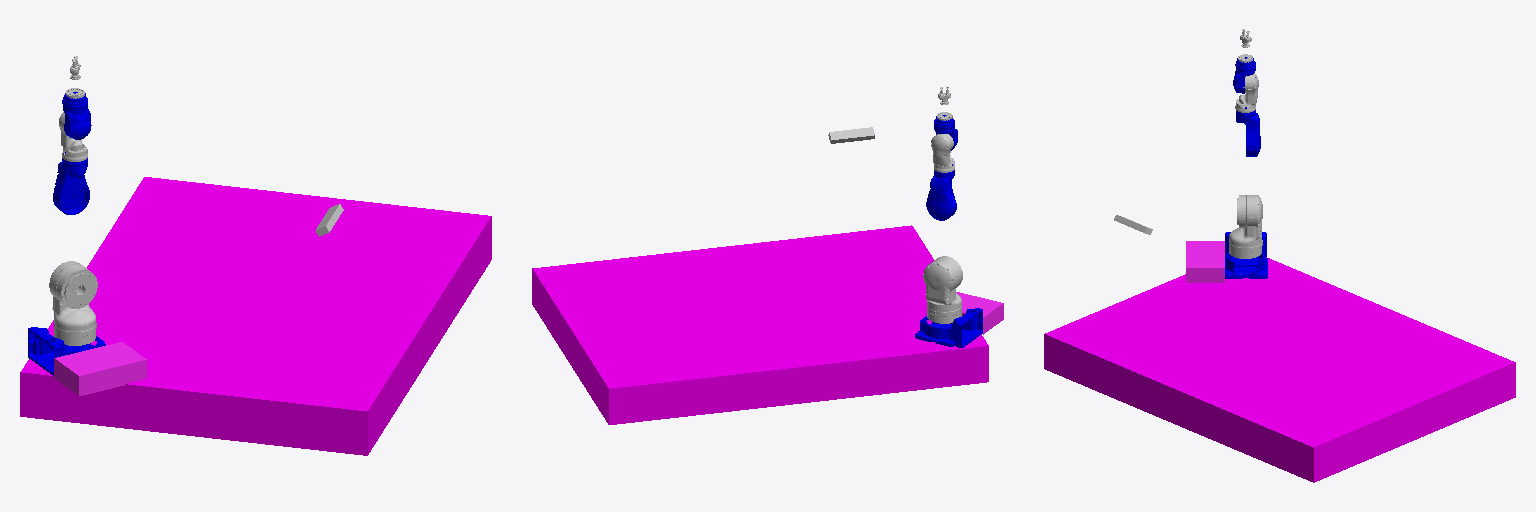
URDF robot description (motoman_vacumm):
<?xml version="1.0" ?>
<!-- =================================================================================== -->
<!-- |    This document was autogenerated by xacro from urdf/mantis.xacro              | -->
<!-- |    EDITING THIS FILE BY HAND IS NOT RECOMMENDED                                 | -->
<!-- =================================================================================== -->
<robot name="motoman_vacumm" xmlns:xacro="http://ros.org/wiki/xacro">
  <!-- instantiating arm and gripper -->
  <link name="base_link">
    <visual>
      <geometry>
        <mesh filename="package://motoman_config/meshes/sia20d/visual/MOTOMAN_BASE.stl"/>
      </geometry>
      <material name="blue">
        <color rgba="0 0 1 1"/>
      </material>
    </visual>
    <collision>
      <geometry>
        <mesh filename="package://motoman_config/meshes/sia20d/collision/MOTOMAN_BASE.stl"/>
      </geometry>
      <material name="yellow">
        <color rgba="0 1 1 1"/>
      </material>
    </collision>
  </link>
  <link name="link_s">
    <visual>
      <origin rpy="0 0 3.1416" xyz="0 0 0"/>
      <geometry>
        <mesh filename="package://motoman_config/meshes/sia20d/visual/MOTOMAN_AXIS_S.stl"/>
      </geometry>
      <material name="silver">
        <color rgba="0.8 0.8 0.8 1"/>
      </material>
    </visual>
    <collision>
      <origin rpy="0 0 3.1416" xyz="0 0 0"/>
      <geometry>
        <mesh filename="package://motoman_config/meshes/sia20d/collision/MOTOMAN_AXIS_S.stl"/>
      </geometry>
      <material name="yellow"/>
    </collision>
  </link>
  <link name="link_l">
    <visual>
      <origin rpy="1.57 3.1416 3.1416" xyz="0 0 0"/>
      <geometry>
        <mesh filename="package://motoman_config/meshes/sia20d/visual/MOTOMAN_AXIS_L.stl"/>
      </geometry>
      <material name="blue"/>
    </visual>
    <collision>
      <origin rpy="1.57 3.1416 3.1416" xyz="0 0 0"/>
      <geometry>
        <mesh filename="package://motoman_config/meshes/sia20d/collision/MOTOMAN_AXIS_L.stl"/>
      </geometry>
      <material name="yellow"/>
    </collision>
  </link>
  <link name="link_e">
    <visual>
      <origin rpy="0 0 0" xyz="0 0 0"/>
      <geometry>
        <mesh filename="package://motoman_config/meshes/sia20d/visual/MOTOMAN_AXIS_E.stl"/>
      </geometry>
      <material name="silver"/>
    </visual>
    <collision>
      <origin rpy="0 0 0" xyz="0 0 0"/>
      <geometry>
        <mesh filename="package://motoman_config/meshes/sia20d/collision/MOTOMAN_AXIS_E.stl"/>
      </geometry>
      <material name="yellow"/>
    </collision>
  </link>
  <link name="link_u">
    <visual>
      <origin rpy="1.57 -3.1415 3.1416" xyz="0 0 0"/>
      <geometry>
        <mesh filename="package://motoman_config/meshes/sia20d/visual/MOTOMAN_AXIS_U.stl"/>
      </geometry>
      <material name="blue"/>
    </visual>
    <collision>
      <origin rpy="1.57 -3.1415 3.1416" xyz="0 0 0"/>
      <geometry>
        <mesh filename="package://motoman_config/meshes/sia20d/collision/MOTOMAN_AXIS_U.stl"/>
      </geometry>
      <material name="yellow"/>
    </collision>
  </link>
  <link name="link_r">
    <visual>
      <origin rpy="0 0 0" xyz="0 0 0"/>
      <geometry>
        <mesh filename="package://motoman_config/meshes/sia20d/visual/MOTOMAN_AXIS_R.stl"/>
      </geometry>
      <material name="silver"/>
    </visual>
    <collision>
      <origin rpy="0 0 0" xyz="0 0 0"/>
      <geometry>
        <mesh filename="package://motoman_config/meshes/sia20d/collision/MOTOMAN_AXIS_R.stl"/>
      </geometry>
      <material name="yellow"/>
    </collision>
  </link>
  <link name="link_b">
    <visual>
      <origin rpy="-1.57 0 0" xyz="0 0 0"/>
      <geometry>
        <mesh filename="package://motoman_config/meshes/sia20d/visual/MOTOMAN_AXIS_B.stl"/>
      </geometry>
      <material name="blue"/>
    </visual>
    <collision>
      <origin rpy="-1.57 0 0" xyz="0 0 0"/>
      <geometry>
        <mesh filename="package://motoman_config/meshes/sia20d/collision/MOTOMAN_AXIS_B.stl"/>
      </geometry>
      <material name="yellow"/>
    </collision>
  </link>
  <link name="link_t">
    <visual>
      <geometry>
        <mesh filename="package://motoman_config/meshes/sia20d/visual/MOTOMAN_AXIS_T.stl"/>
      </geometry>
      <material name="silver"/>
    </visual>
    <collision>
      <geometry>
        <mesh filename="package://motoman_config/meshes/sia20d/collision/MOTOMAN_AXIS_T.stl"/>
      </geometry>
      <material name="yellow"/>
    </collision>
  </link>
  <joint name="joint_s" type="revolute">
    <parent link="base_link"/>
    <child link="link_s"/>
    <origin rpy="0 0 0" xyz="0 0 0.41"/>
    <axis xyz="0 0 1"/>
    <limit effort="100" lower="-3.1416" upper="3.1416" velocity="2.26"/>
  </joint>
  <joint name="joint_l" type="revolute">
    <parent link="link_s"/>
    <child link="link_l"/>
    <origin rpy="0 0 0" xyz="0 0 0"/>
    <axis xyz="0 1 0"/>
    <limit effort="100" lower="-1.91" upper="1.91" velocity="2.26"/>
  </joint>
  <joint name="joint_e" type="revolute">
    <parent link="link_l"/>
    <child link="link_e"/>
    <origin rpy="0 0 0" xyz="0 0 0.49"/>
    <axis xyz="0 0 1"/>
    <limit effort="100" lower="-2.96" upper="2.96" velocity="2.96"/>
  </joint>
  <joint name="joint_u" type="revolute">
    <parent link="link_e"/>
    <child link="link_u"/>
    <origin rpy="0 0 0" xyz="0 0 0"/>
    <axis xyz="0 -1 0"/>
    <limit effort="100" lower="-2.26" upper="2.26" velocity="2.96"/>
  </joint>
  <joint name="joint_r" type="revolute">
    <parent link="link_u"/>
    <child link="link_r"/>
    <origin rpy="0 0 0" xyz="0 0 0.420"/>
    <axis xyz="0 0 -1"/>
    <limit effort="100" lower="-3.1416" upper="3.1416" velocity="3.48"/>
  </joint>
  <joint name="joint_b" type="revolute">
    <parent link="link_r"/>
    <child link="link_b"/>
    <origin rpy="0 0 0" xyz="0 0 0"/>
    <axis xyz="0 -1 0"/>
    <limit effort="100" lower="-1.91" upper="1.91" velocity="3.48"/>
  </joint>
  <joint name="joint_t" type="revolute">
    <parent link="link_b"/>
    <child link="link_t"/>
    <origin rpy="0 0 0" xyz="0 0 0.18"/>
    <axis xyz="0 0 -1"/>
    <limit effort="100" lower="-3.1416" upper="3.1416" velocity="6.97"/>
  </joint>
  <link name="palm">
    <visual>
      <origin rpy="0 0 0" xyz="0 0.036 -0.1"/>
      <geometry>
        <mesh filename="package://mantis_config/config/meshes/vacuum_gripper.STL"/>
      </geometry>
      <material name="silver">
        <color rgba="0.8 0.8 0.8 1"/>
      </material>
    </visual>
    <collision>
      <origin rpy="0 0 0" xyz="0 0.036 -0.1"/>
      <geometry>
        <mesh filename="package://mantis_config/config/meshes/vacuum_gripper.stl"/>
      </geometry>
      <material name="another_blue2">
        <color rgba="0.38 0.54 0.83 1"/>
      </material>
    </collision>
  </link>
  <!-- property list -->
  <!-- link sub-blocks -->
  <!-- arm-gripper coupling links -->
  <link name="coupler">
    <visual>
      <geometry>
        <mesh filename="package://longhorn/meshes/coupler/visual/COUPLER.stl"/>
      </geometry>
      <material name="orange">
        <color rgba="1 0.5 0 1"/>
      </material>
    </visual>
    <collision>
      <geometry>
        <mesh filename="package://longhorn/meshes/coupler/collision/COUPLER.stl"/>
      </geometry>
      <material name="yellow">
        <color rgba="0 1 1 1"/>
      </material>
    </collision>
  </link>
  <!-- end of arm-gripper coupling links -->
  <!-- arm-gripper coupling joints -->
  <joint name="tool-coupler" type="fixed">
    <parent link="link_t"/>
    <child link="coupler"/>
    <origin rpy="1.570 0 -0.785" xyz="0 0 0"/>
  </joint>
  <joint name="coupler-hand" type="fixed">
    <parent link="coupler"/>
    <child link="palm"/>
    <origin rpy="-1.570 0 0" xyz="0 0.182 0.036"/>
  </joint>
  <!-- end of arm-gripper coupling joints -->
  <!-- environment objects -->
  <link name="table">
    <visual>
      <geometry>
        <box size="1.83 2.44 0.25"/>
      </geometry>
      <material name="">
        <color rgba="1 0 1 1"/>
      </material>
    </visual>
    <collision>
      <geometry>
        <box size="1.83 2.44 0.25"/>
      </geometry>
      <material name="">
        <color rgba="1 0 1 1"/>
      </material>
    </collision>
  </link>
  <link name="table_keepout_1">
    <collision>
      <geometry>
        <box size="2.08 0.25 2"/>
      </geometry>
      <material name="">
        <color rgba="1 0.2 1 0.1"/>
      </material>
    </collision>
  </link>
  <link name="table_keepout_2">
    <collision>
      <geometry>
        <box size="0.25 2.69 2"/>
      </geometry>
      <material name="">
        <color rgba="1 0.2 1 0.1"/>
      </material>
    </collision>
  </link>
  <link name="power_supply">
    <visual>
      <geometry>
        <box size="0.400 0.250 0.115"/>
      </geometry>
      <material name="">
        <color rgba="1 0.2 1 0.1"/>
      </material>
    </visual>
    <collision>
      <geometry>
        <box size="0.400 0.250 0.115"/>
      </geometry>
      <material name="">
        <color rgba="1 0.2 1 0.1"/>
      </material>
    </collision>
  </link>
  <link name="kinect_keepout">
    <collision>
      <geometry>
        <box size="0.25 2.69 2"/>
      </geometry>
      <material name="">
        <color rgba="1 0.2 1 0.1"/>
      </material>
    </collision>
  </link>
  <link name="kinect">
    <collision>
      <geometry>
        <box size="0.36 0.28 0.22"/>
      </geometry>
      <material name="">
        <color rgba="1 0.8 1 0.1"/>
      </material>
    </collision>
  </link>
  <!-- end of environment objects -->
  <!-- environment joints -->
  <joint name="base-table" type="fixed">
    <parent link="base_link"/>
    <child link="table"/>
    <origin rpy="0 0 -0.785" xyz="1.19 0.22 -0.125"/>
  </joint>
  <joint name="base-kinect" type="fixed">
    <parent link="base_link"/>
    <child link="kinect"/>
    <origin rpy="0 0.5235 2.356" xyz="1.08 -0.72 0.82"/>
  </joint>
  <joint name="table-keepout_1" type="fixed">
    <parent link="table"/>
    <child link="table_keepout_1"/>
    <origin rpy="0 0 0" xyz="0 -1.34 1"/>
  </joint>
  <joint name="table-keepout_2" type="fixed">
    <parent link="table"/>
    <child link="table_keepout_2"/>
    <origin rpy="0 0 0" xyz="-1.025 0 1"/>
  </joint>
  <joint name="base-power_supply" type="fixed">
    <parent link="base_link"/>
    <child link="power_supply"/>
    <origin rpy="0 0 0" xyz="0 -0.260 0.050"/>
  </joint>
  <joint name="table-kinect" type="fixed">
    <parent link="table"/>
    <child link="kinect_keepout"/>
    <origin rpy="0 0 0" xyz=".5 0 1"/>
  </joint>
  <!-- end of environment joints -->
  <!-- sensor links -->
  <link name="kinect_frame">
    <visual>
      <origin rpy="0 0 0" xyz="0 0 0"/>
      <geometry>
        <box size="0.064 0.28 0.04"/>
      </geometry>
      <material name="silver"/>
    </visual>
    <collision>
      <origin rpy="0 0 0" xyz="0 0 0"/>
      <geometry>
        <box size="0.064 0.28 0.04"/>
      </geometry>
    </collision>
  </link>
  <link name="kinect_ir_link">
    <visual>
      <origin rpy="0 0 0" xyz="0 0 0"/>
      <geometry>
        <sphere radius="0.0005"/>
      </geometry>
    </visual>
  </link>
  <link name="kinect_rgb_link">
    <visual>
      <origin rpy="0 0 0" xyz="0 0 0"/>
      <geometry>
        <sphere radius="0.0005"/>
      </geometry>
    </visual>
  </link>
  <link name="kinect_ir_optical_frame"/>
  <link name="kinect_rgb_optical_frame"/>
  <!-- end of sensor links -->
  <!-- sensor joints -->
  <joint name="kinect_frame_joint" type="fixed">
    <parent link="kinect"/>
    <child link="kinect_frame"/>
    <origin rpy="0 0 0" xyz="0 0 0"/>
  </joint>
  <joint name="kinect_ir_joint" type="fixed">
    <parent link="kinect_frame"/>
    <child link="kinect_ir_link"/>
    <origin rpy="0 0 0" xyz="0 0 0"/>
  </joint>
  <joint name="kinect_ir_optical_frame_joint" type="fixed">
    <parent link="kinect_ir_link"/>
    <child link="kinect_ir_optical_frame"/>
    <origin rpy="-1.57 0 -1.57" xyz="0 0 0"/>
  </joint>
  <joint name="kinect_rgb_joint" type="fixed">
    <parent link="kinect_ir_link"/>
    <child link="kinect_rgb_link"/>
    <origin rpy="0 0 0" xyz="0 -0.03 0"/>
  </joint>
  <joint name="kinect_rgb_optical_frame_joint" type="fixed">
    <parent link="kinect_rgb_link"/>
    <child link="kinect_rgb_optical_frame"/>
    <origin rpy="-1.57 0 -1.57" xyz="0 0 0"/>
  </joint>
  <!-- end of sensor joints -->
</robot>

--- Facts derived from the render (not from the file) ---
3 views of the same robot in one strip: view 1: azimuth 30°, elevation 25°; view 2: azimuth 150°, elevation 25°; view 3: azimuth 270°, elevation 25° (orthographic).
Model motoman_vacumm with 21 links and 20 joints (7 revolute, 13 fixed), rooted at base_link, posed every joint at zero.
Visible links, largest first — view 1: table, power_supply, link_s, link_u, base_link, link_b, link_r; view 2: table, link_s, base_link, link_u, power_supply, link_r, kinect_frame; view 3: table, link_s, power_supply, base_link, link_u, link_r.
Boxes of the visible links, x1,y1,x2,y2 form: table: (20, 177, 491, 455); power_supply: (54, 342, 146, 395); link_s: (49, 261, 97, 345); link_u: (53, 152, 89, 214); base_link: (28, 327, 105, 375); link_b: (62, 92, 91, 139); link_r: (59, 112, 87, 161); table: (532, 225, 988, 424); link_s: (923, 256, 962, 323); base_link: (915, 308, 982, 347); link_u: (926, 164, 956, 220); power_supply: (956, 292, 1003, 334); link_r: (931, 134, 954, 172); kinect_frame: (828, 127, 874, 143); table: (1044, 257, 1515, 482); link_s: (1229, 195, 1262, 258); power_supply: (1186, 241, 1224, 282); base_link: (1225, 232, 1267, 278); link_u: (1236, 107, 1260, 156); link_r: (1235, 73, 1258, 112).
Size in the robot's own frame: 3.02 by 3.02 by 1.94 metres.
Meshes: 10 distinct files referenced, 7 mesh visuals loaded (7 binary STL); not drawn: 3 (reference not matched to a file when rendering).